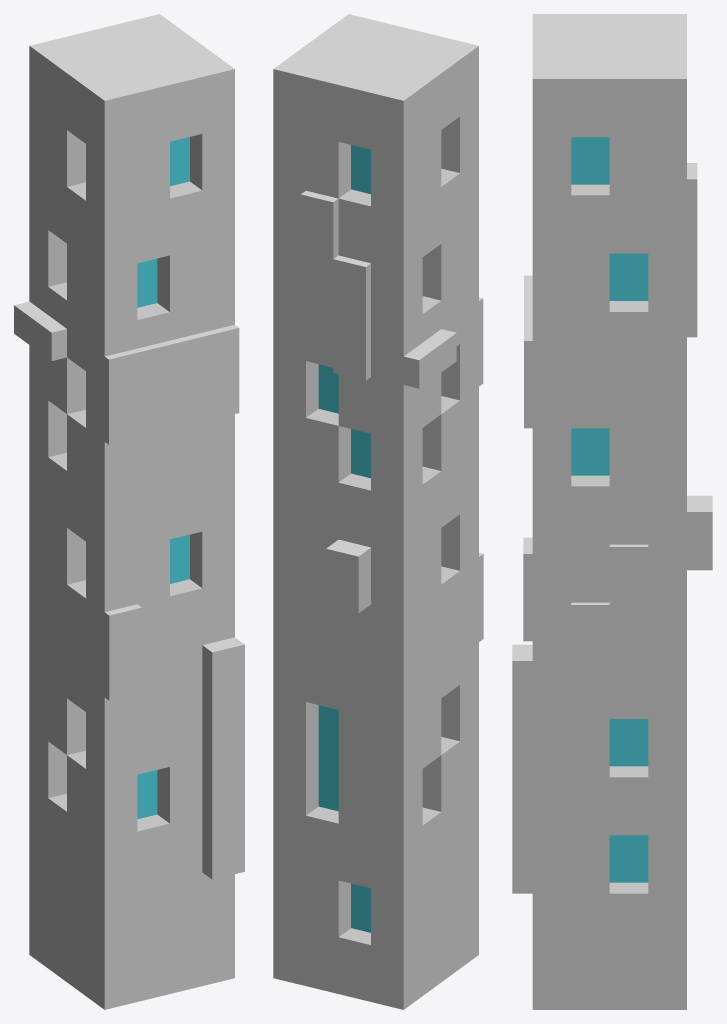
File: Building.fbx
The picture shows the model from 3 angles, left to right: view 1: azimuth 30°, elevation 25°; view 2: azimuth 150°, elevation 25°; view 3: azimuth 270°, elevation 25°; orthographic projection. The views are drawn at different scales.
Parts seen in each view (by area): view 1: Cube; view 2: Cube; view 3: Cube.
Boxes of the visible parts, x1,y1,x2,y2 form: Cube: (14, 14, 244, 1009); Cube: (273, 14, 483, 1009); Cube: (512, 14, 712, 1009).
Size of the model in its own units: 692 by 4000 by 779.
